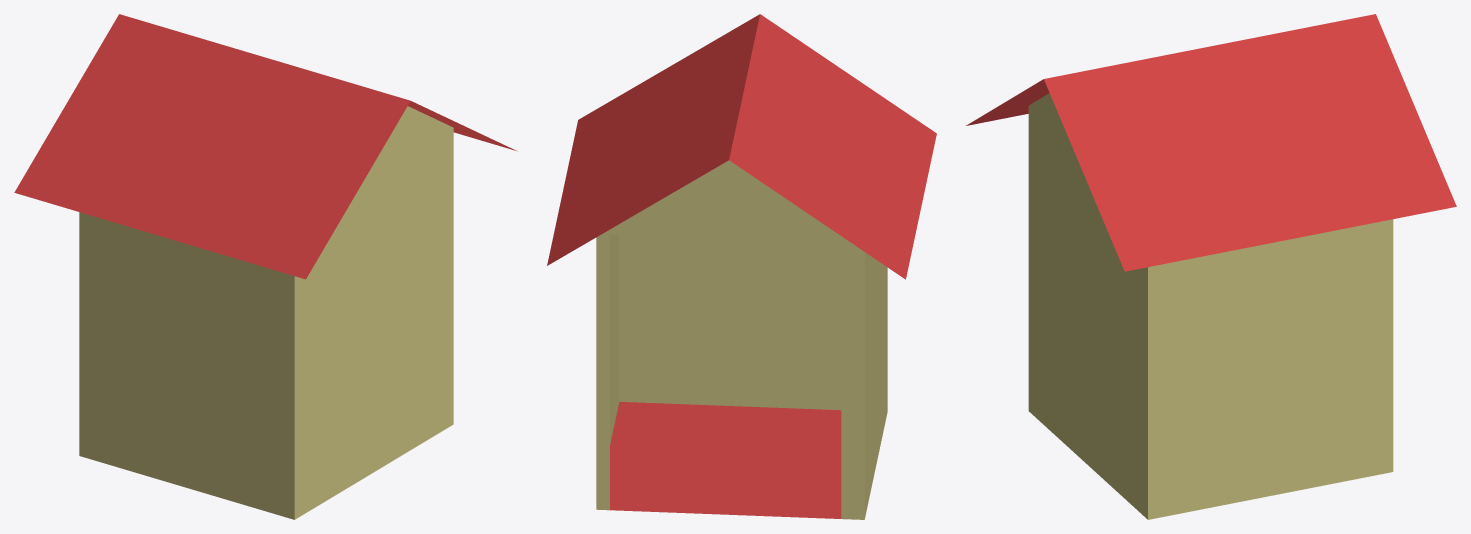
3 renders of one model, left to right at view 1: azimuth 30°, elevation 25°; view 2: azimuth 150°, elevation 25°; view 3: azimuth 270°, elevation 25°, orthographic. The views are drawn at different scales.
Bounding box in the file's own units: 10.41 × 10.27 × 9.08.
